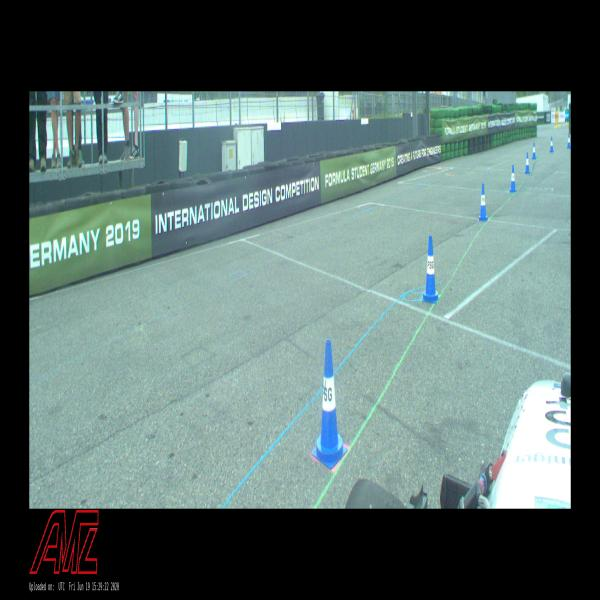blue_cone: (312, 339, 348, 468), (422, 235, 439, 304), (479, 184, 488, 222), (510, 164, 516, 192), (525, 152, 530, 174), (549, 137, 554, 153), (532, 142, 536, 159), (567, 133, 571, 149)
yellow_cone: (559, 120, 561, 126), (556, 120, 557, 128), (554, 122, 555, 129), (566, 120, 567, 126), (558, 121, 559, 126), (564, 121, 564, 126)
